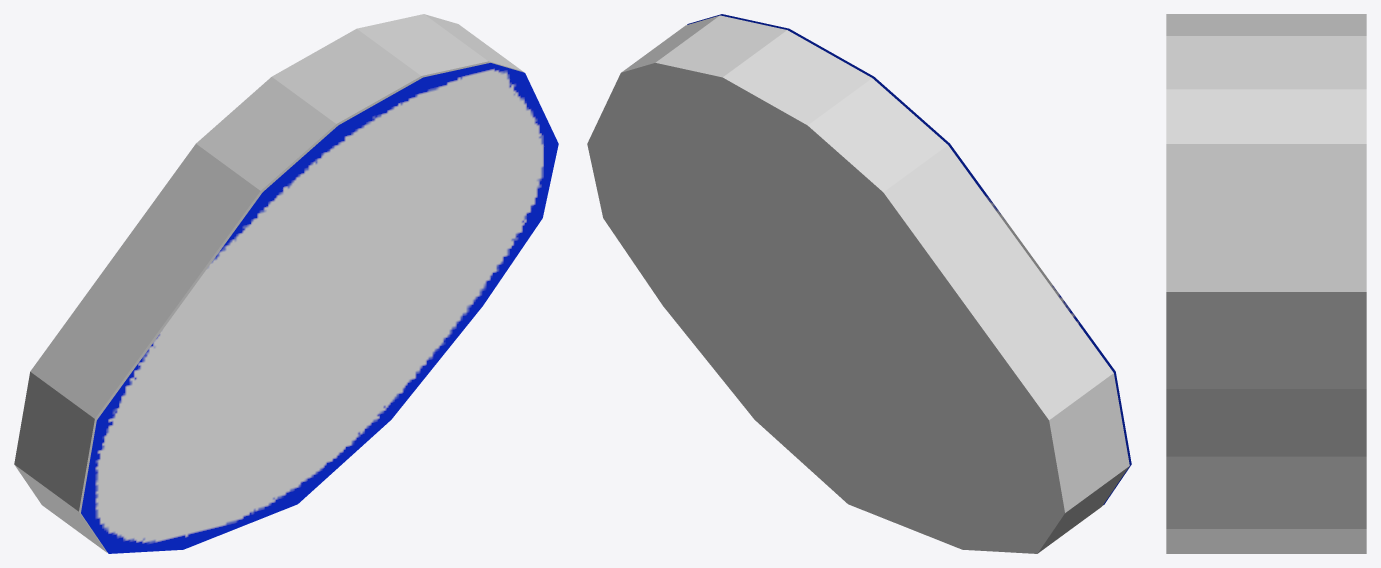
3 renders of one model, left to right at view 1: azimuth 30°, elevation 25°; view 2: azimuth 150°, elevation 25°; view 3: azimuth 270°, elevation 25°, orthographic. The views are drawn at different scales.
Visible parts, largest first — view 1: In_1_1, In_1_0; view 2: In_1_0, In_1_1; view 3: In_1_0.
Part boxes in pixels (bbox=[...]): In_1_1: bbox=[81, 63, 558, 553]; In_1_0: bbox=[14, 14, 523, 552]; In_1_0: bbox=[587, 15, 1129, 553]; In_1_1: bbox=[687, 14, 1131, 505]; In_1_0: bbox=[1166, 14, 1366, 553].
Size of the model in its own units: 2.13 by 1.76 by 0.515.
Materials: 2 (1 with a texture image).
